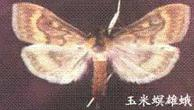pest: (6, 1, 190, 97)
